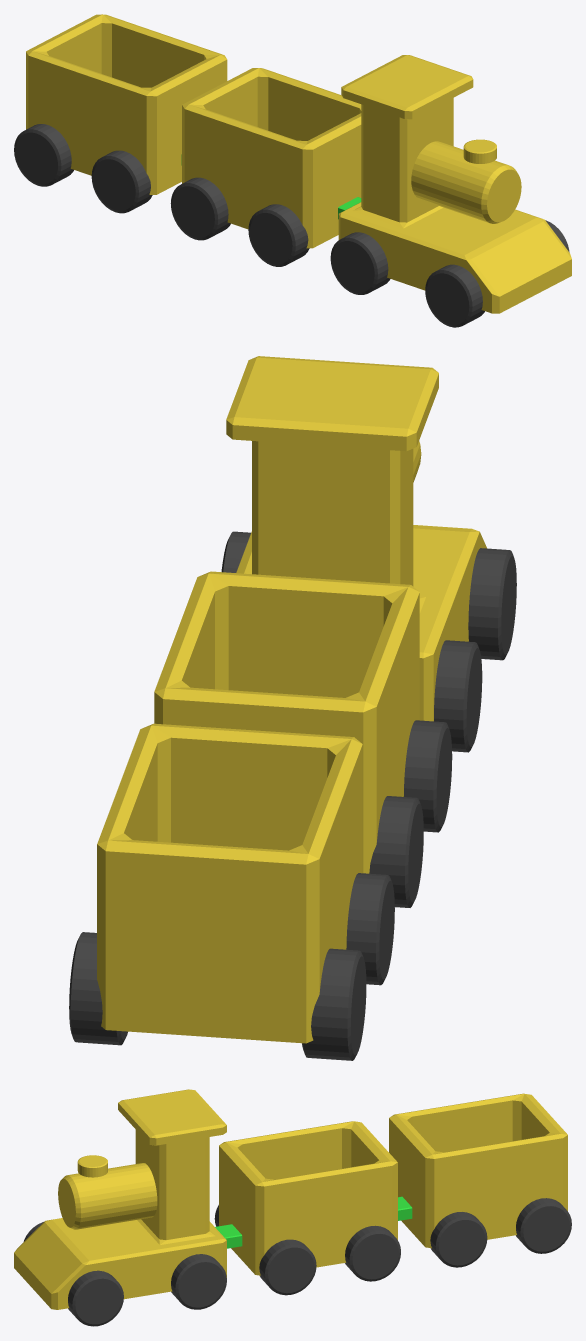
File: ToyTrain_3_Props.fbx
3 views of the same model, one above another, from view 1: azimuth 30°, elevation 25°; view 2: azimuth 150°, elevation 25°; view 3: azimuth 270°, elevation 25° (orthographic). The views are drawn at different scales.
Visible parts, largest first — view 1: TrainBody.001, TrainCarriage.002, TrainCarriage.003, TrainFront.003, TrainTire.020, TrainTire.022, TrainTire.021, TrainTire.023, TrainTire.018, TrainTire.019, TrainFront.004; view 2: TrainCarriage.003, TrainBody.001, TrainCarriage.002, TrainTire.023, TrainTire.018, TrainTire.021, TrainTire.019, TrainTire.022, TrainTire.020, TrainTire.017; view 3: TrainBody.001, TrainCarriage.002, TrainCarriage.003, TrainFront.003, TrainTire.014, TrainTire.016, TrainTire.017, TrainTire.013, TrainTire.012, TrainTire.015, TrainFront.004, TrainConnect.002.
Boxes of the visible parts, x1,y1,x2,y2 form: TrainBody.001: [338, 55, 571, 313]; TrainCarriage.002: [182, 68, 361, 248]; TrainCarriage.003: [26, 14, 227, 194]; TrainFront.003: [411, 141, 521, 223]; TrainTire.020: [248, 204, 309, 266]; TrainTire.022: [91, 150, 152, 213]; TrainTire.021: [170, 177, 230, 240]; TrainTire.023: [14, 124, 73, 186]; TrainTire.018: [425, 264, 484, 327]; TrainTire.019: [330, 232, 390, 294]; TrainFront.004: [463, 139, 496, 163]; TrainCarriage.003: [97, 723, 362, 1043]; TrainBody.001: [226, 356, 487, 721]; TrainCarriage.002: [154, 571, 419, 873]; TrainTire.023: [302, 948, 366, 1060]; TrainTire.018: [468, 548, 516, 660]; TrainTire.021: [369, 796, 423, 907]; TrainTire.019: [434, 640, 482, 752]; TrainTire.022: [346, 873, 394, 985]; TrainTire.020: [403, 720, 452, 832]; TrainTire.017: [69, 932, 127, 1045]; TrainBody.001: [14, 1089, 226, 1309]; TrainCarriage.002: [219, 1121, 397, 1275]; TrainCarriage.003: [389, 1093, 567, 1248]; TrainFront.003: [58, 1163, 157, 1229]; TrainTire.014: [259, 1239, 316, 1295]; TrainTire.016: [430, 1212, 487, 1267]; TrainTire.017: [516, 1198, 571, 1253]; TrainTire.013: [171, 1254, 226, 1309]; TrainTire.012: [68, 1270, 123, 1326]; TrainTire.015: [345, 1225, 400, 1281]; TrainFront.004: [77, 1155, 107, 1177]; TrainConnect.002: [215, 1224, 242, 1248].
Size of the model in its own units: 181 by 106 by 313.
